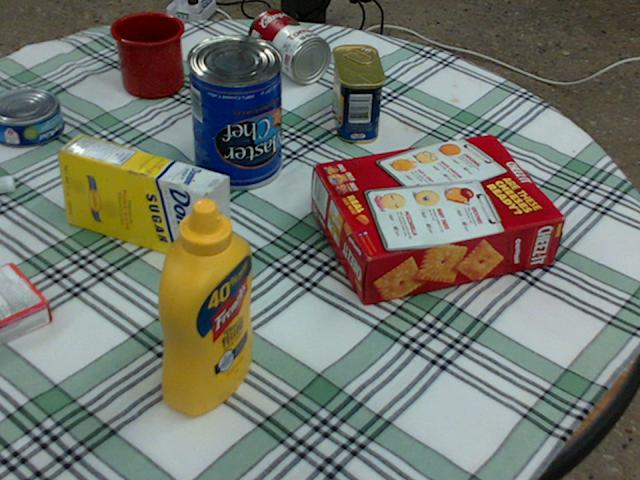cracker_box: (313, 134, 564, 305)
gelatin_box: (0, 262, 52, 344)
large_marker: (0, 175, 15, 193)
master_chef_can: (185, 35, 280, 189)
mug: (112, 11, 185, 96)
mustard_bottle: (156, 198, 252, 413)
potted_meat_can: (330, 45, 384, 142)
sugar_box: (57, 134, 229, 268)
tomato_soup_can: (248, 8, 329, 82)
tuna_fish_can: (0, 87, 63, 146)
